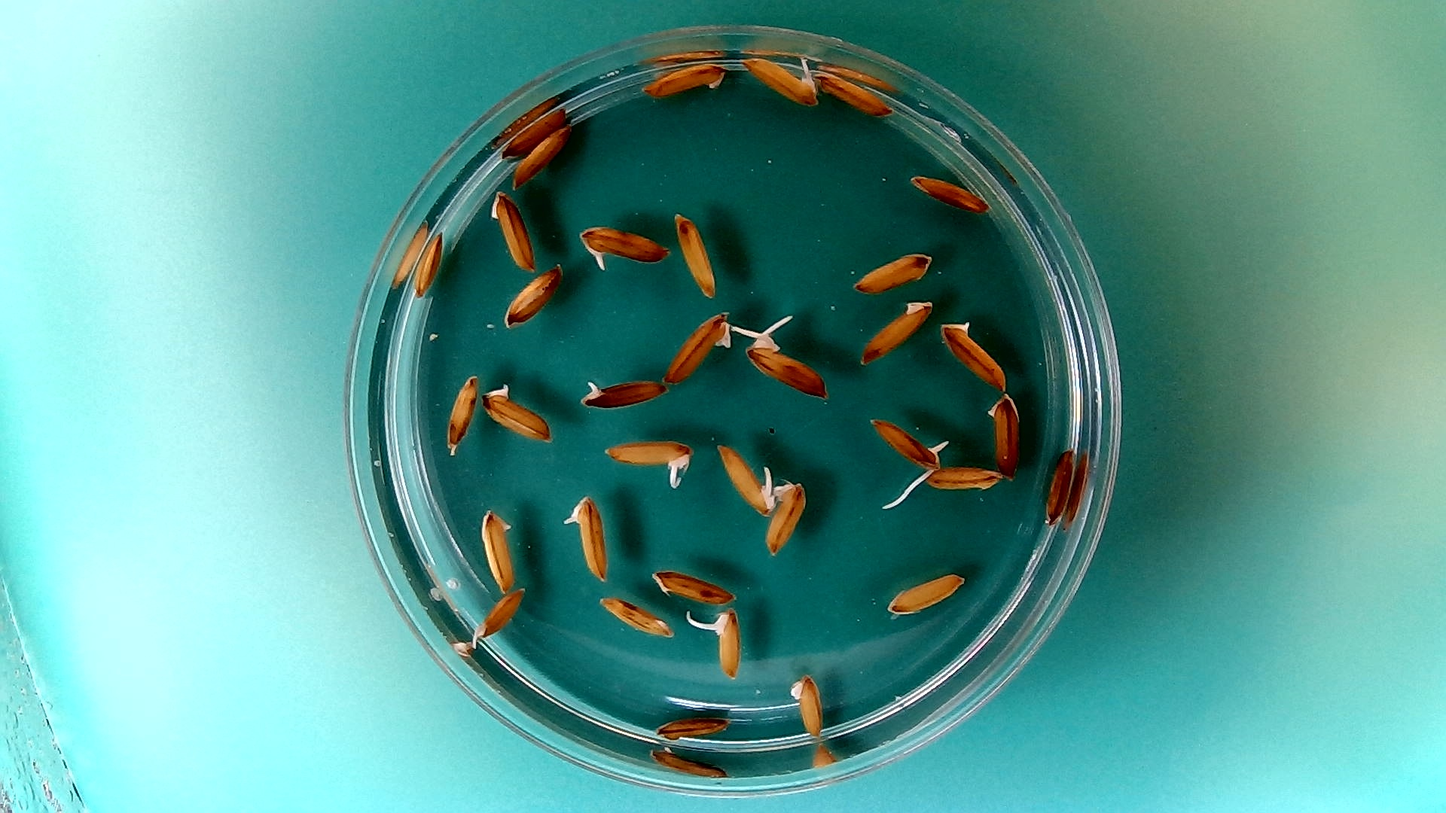no: (660, 309, 734, 385), (857, 296, 935, 365), (509, 122, 575, 189), (502, 260, 564, 330), (487, 187, 537, 273), (672, 209, 719, 300), (885, 568, 967, 618), (442, 359, 480, 464), (762, 476, 810, 558), (648, 563, 738, 606), (595, 592, 675, 640), (851, 248, 934, 294), (503, 104, 570, 160), (816, 70, 895, 117), (906, 170, 991, 213), (639, 59, 728, 99), (478, 506, 518, 595), (1040, 445, 1079, 531), (984, 391, 1022, 478), (639, 711, 735, 744), (789, 669, 828, 741), (921, 463, 1003, 494), (410, 229, 446, 299)
yes: (749, 330, 832, 400), (937, 315, 1008, 390), (601, 434, 697, 486), (478, 379, 555, 443), (562, 490, 612, 586), (873, 414, 949, 477), (714, 440, 776, 517), (576, 221, 670, 271), (740, 52, 819, 106), (577, 371, 670, 411), (468, 584, 528, 644), (708, 605, 745, 682)
